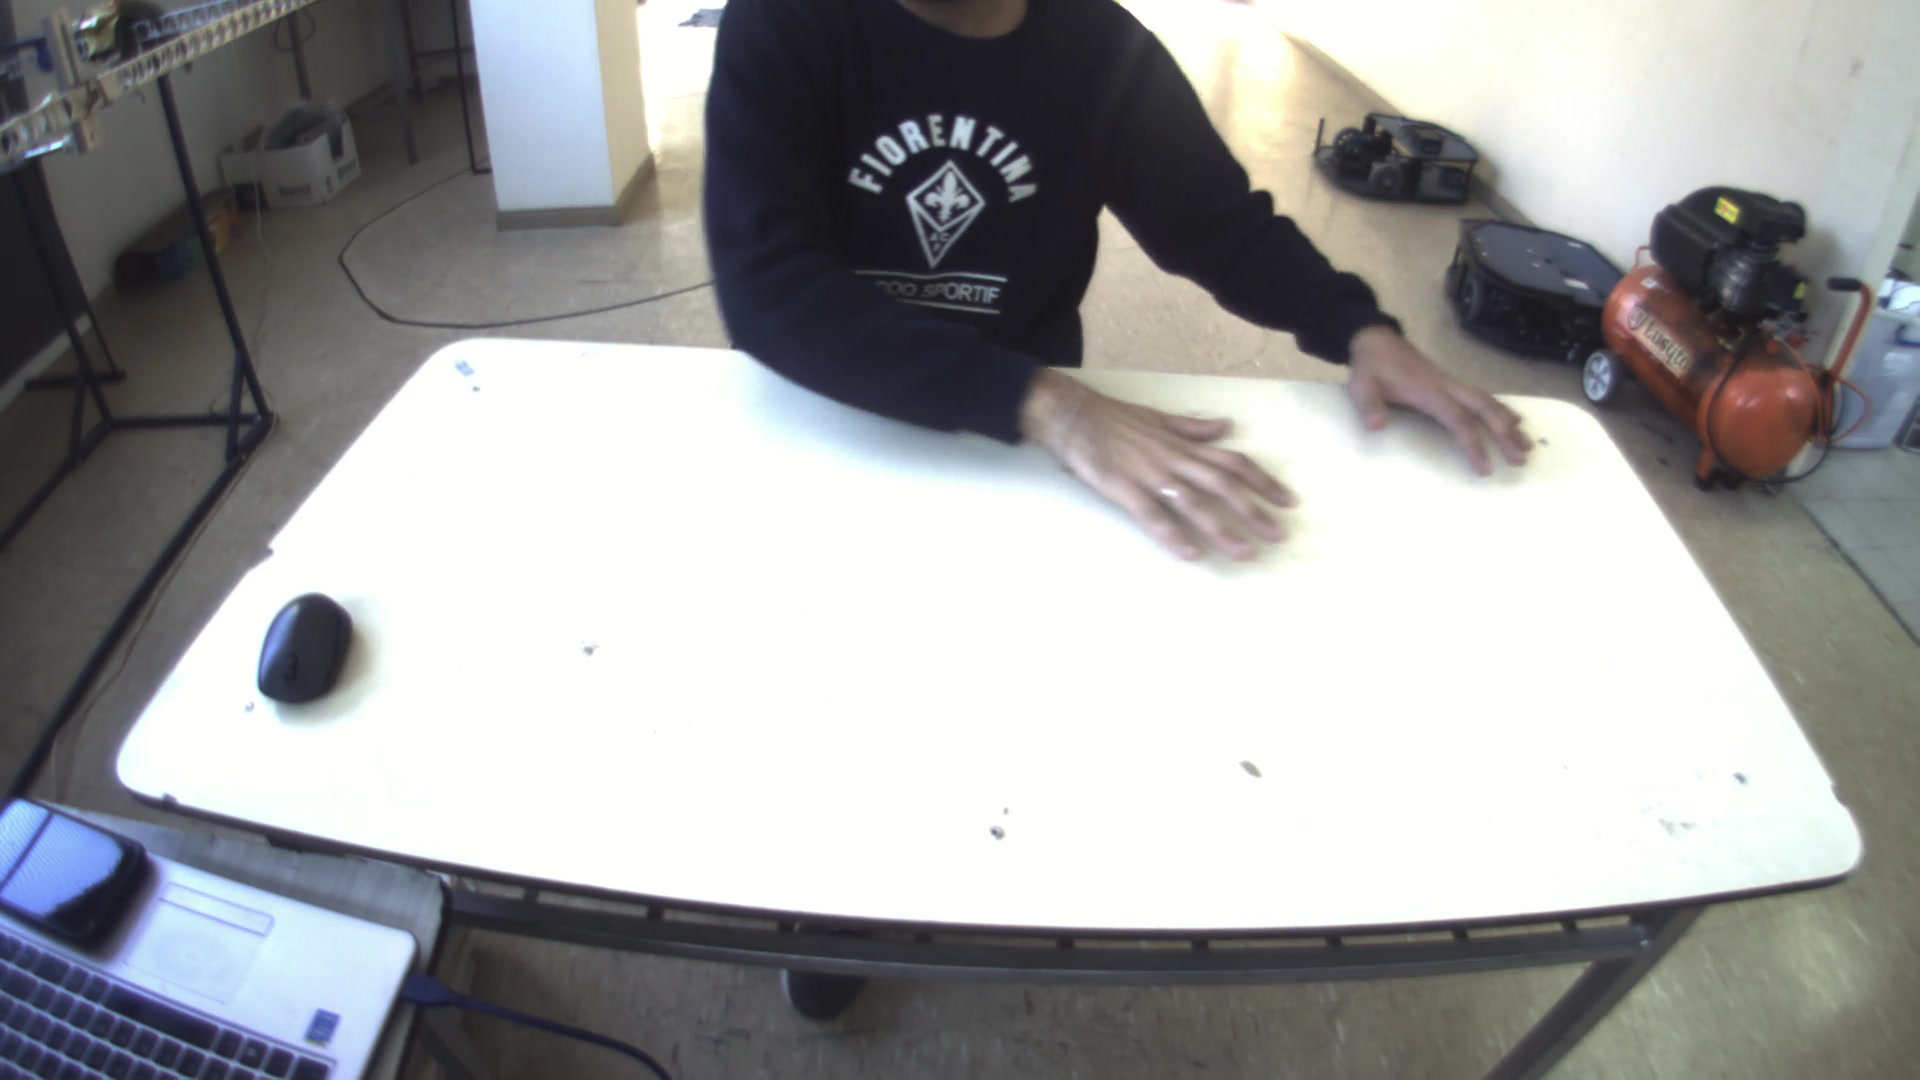hand: (1015, 357, 1307, 568), (1338, 319, 1557, 479)
